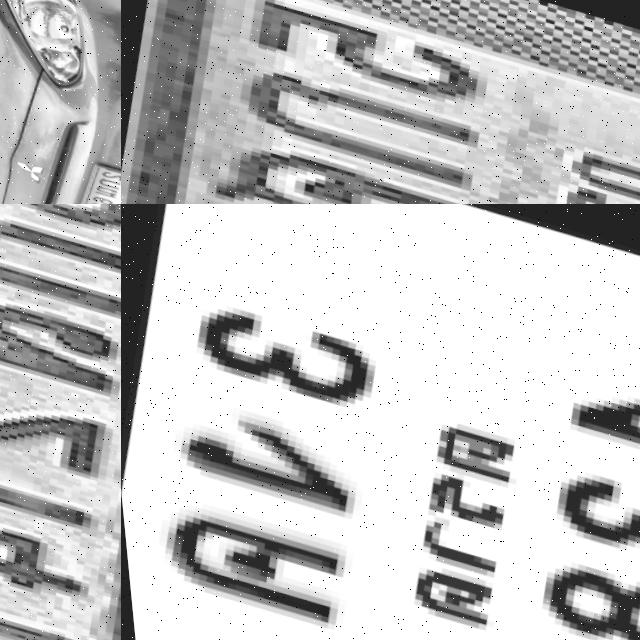license-plate: (121, 204, 640, 640), (121, 0, 640, 204), (0, 204, 121, 640), (55, 153, 121, 204)
